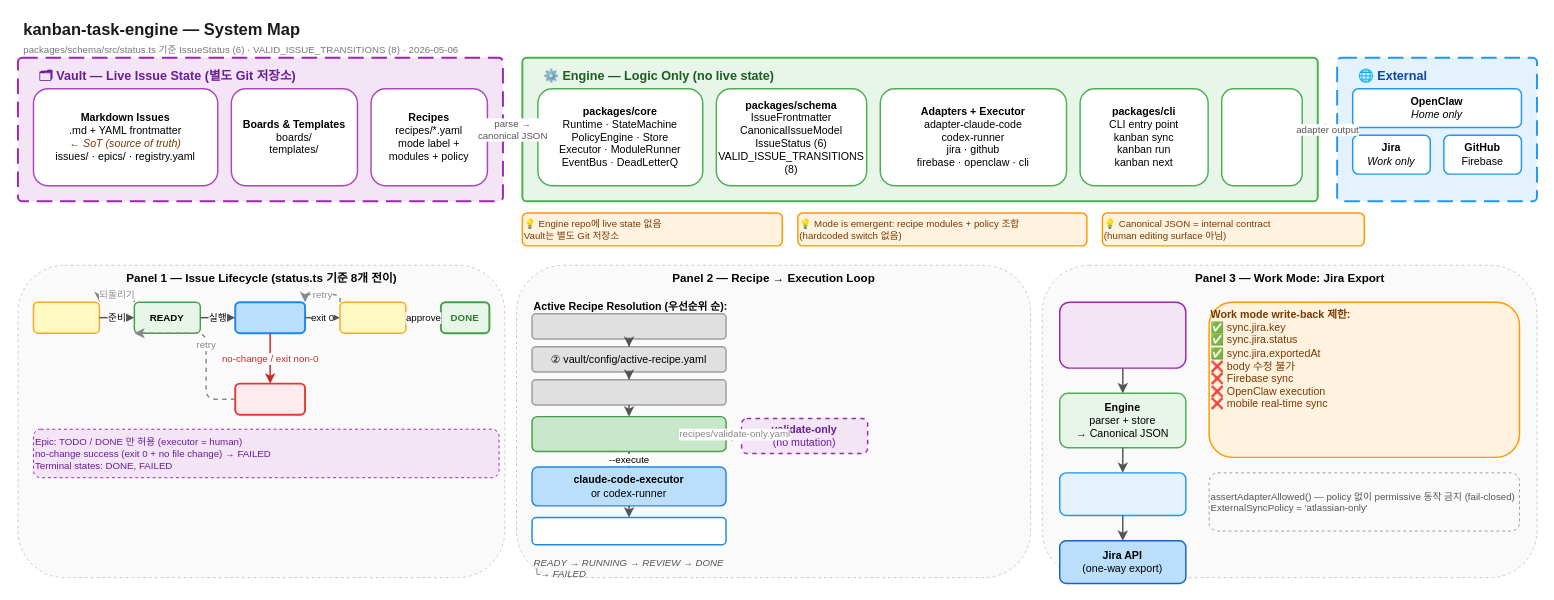
This 1554x600 diagram has some shape labels left out. The box of each missing label's shape, as (x1, y1, x2, y2) in pixels:
adapter-jira RuntimePolicy check: (1059, 472, 1186, 516)
FAILED: (234, 382, 306, 415)
Isolated Worktree: (531, 516, 726, 545)
PolicyEngine (fail-closed): (531, 415, 726, 452)
recipes/ home-assisted.yaml validate-only.yaml work-jira-export.yaml: (1221, 88, 1303, 186)
REVIEW: (339, 301, 406, 333)
RUNNING: (234, 301, 306, 334)
TODO: (32, 301, 100, 333)
Vault Markdown Issues SoT: (1059, 301, 1186, 368)
① KANBAN_RECIPE (env): (531, 313, 726, 339)
③ bundled home-assisted.yaml: (531, 379, 726, 405)
